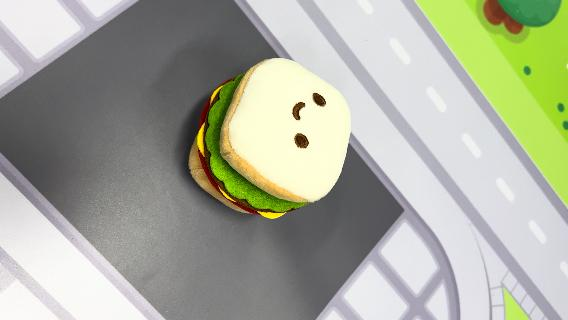sandwich: (186, 55, 354, 219)
